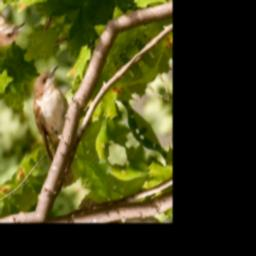Cuckoo: (1, 59, 119, 193)
